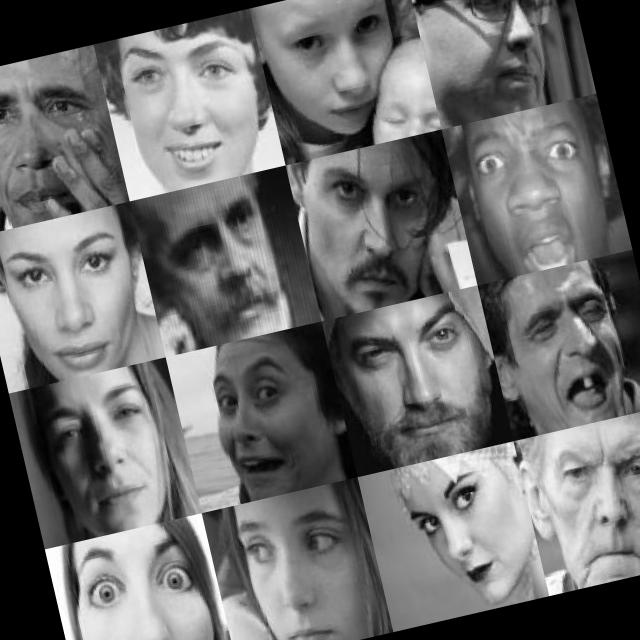angry: (334, 292, 494, 465), (536, 417, 640, 590), (449, 0, 573, 111)
fear: (454, 100, 614, 278), (63, 515, 222, 640), (200, 340, 314, 496)
happy: (110, 17, 271, 192), (508, 273, 634, 429)
neutral: (304, 136, 452, 312), (0, 214, 149, 385), (30, 370, 176, 534), (396, 458, 523, 616)
sad: (226, 490, 375, 640), (154, 184, 291, 347), (0, 56, 122, 231), (267, 0, 415, 139)
